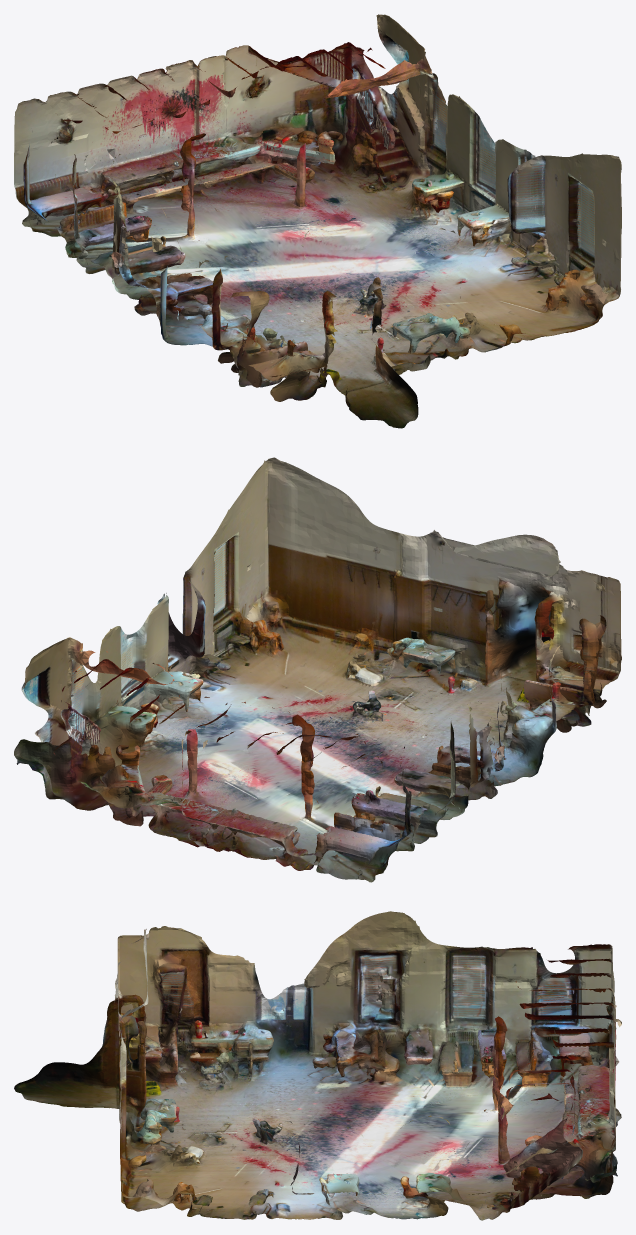
3 views of the same model, one above another, from view 1: azimuth 30°, elevation 25°; view 2: azimuth 150°, elevation 25°; view 3: azimuth 270°, elevation 25° (orthographic). The views are drawn at different scales.
Bounding box in the file's own units: 10.48 × 4.36 × 14.87.
Materials: 2 (2 with a texture image).
